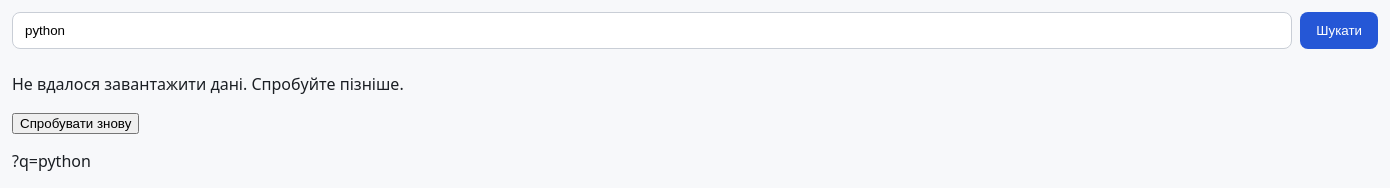
it: CatalogPage › повторний пошук з тим самим запитом теж перезапускає завантаження
The image size is (1390, 188).
Expected: the message "Не вдалося завантажити дані. Спробуйте пізніше." is shown, 12,73 -> 404,95
Click the button "Шукати": (1339, 30) 1300,12 -> 1378,49
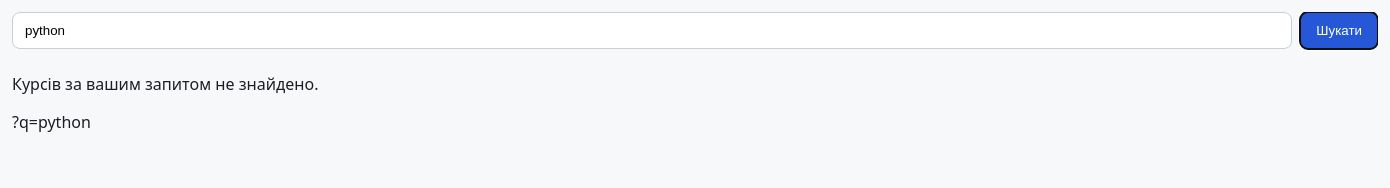
Result: the text "Курсів за вашим запитом не знайдено." is shown at 12,73 -> 318,95
